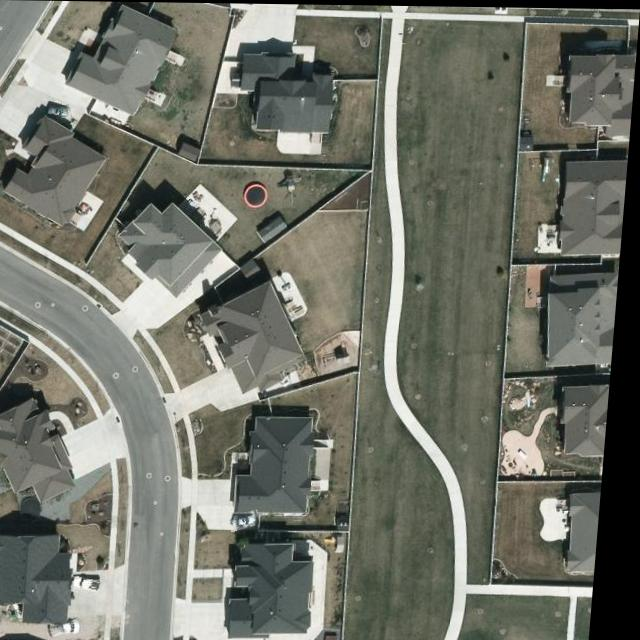vehicle: (238, 511, 270, 530), (58, 618, 93, 635), (81, 576, 113, 593), (48, 105, 74, 119)
